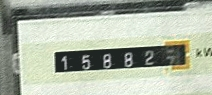1: (59, 54, 69, 71)
2: (142, 48, 153, 66)
5: (80, 53, 90, 69)
7: (165, 54, 174, 65)
8: (122, 50, 132, 68), (101, 53, 112, 69)
screen: (46, 35, 196, 82)
